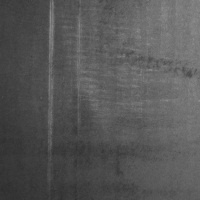scratches: (46, 3, 58, 181)
